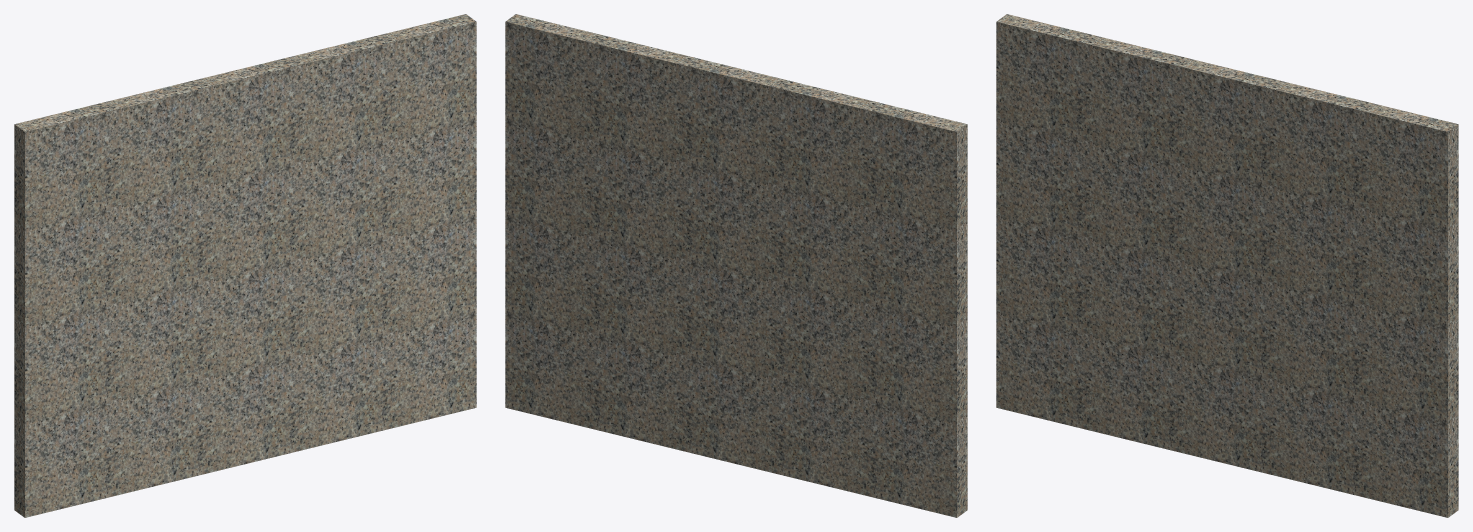
The model's file is Lobby_Wall_01.obj.
3 views of the same model, side by side, from view 1: azimuth 30°, elevation 25°; view 2: azimuth 150°, elevation 25°; view 3: azimuth 330°, elevation 25° (orthographic).
Parts seen in each view (by area): view 1: Lobby_Wall_01; view 2: Lobby_Wall_01; view 3: Lobby_Wall_01.
Part boxes in pixels (x1,y1,x2,y2): Lobby_Wall_01: (14,14,476,517); Lobby_Wall_01: (505,14,967,517); Lobby_Wall_01: (996,14,1458,517).
Bounding box in the file's own units: 4.9 × 4 × 0.2.
Materials: 1 (1 with a texture image).
